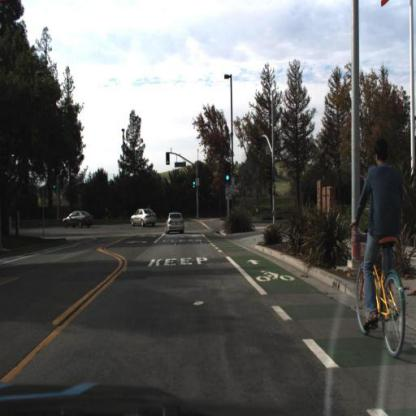biker: (350, 138, 410, 359)
car: (61, 210, 95, 229), (130, 207, 160, 228), (63, 210, 93, 230), (165, 211, 186, 235)
trafficLight: (192, 178, 198, 192), (193, 176, 198, 189)
trafficLight-Green: (225, 163, 233, 183), (225, 163, 230, 185)
trafficLight-GreenLeft: (166, 151, 171, 166), (167, 152, 172, 166), (54, 178, 58, 191)
